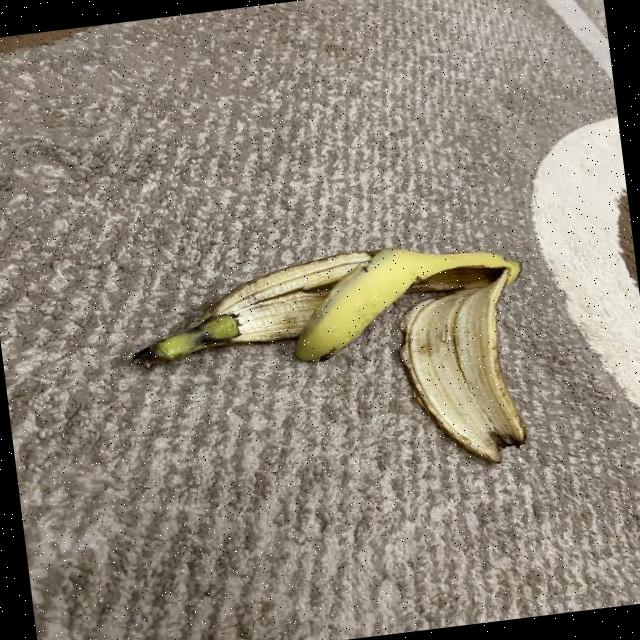banana-peel: (120, 228, 544, 506), (282, 230, 528, 364), (388, 263, 540, 473), (120, 248, 380, 370)
